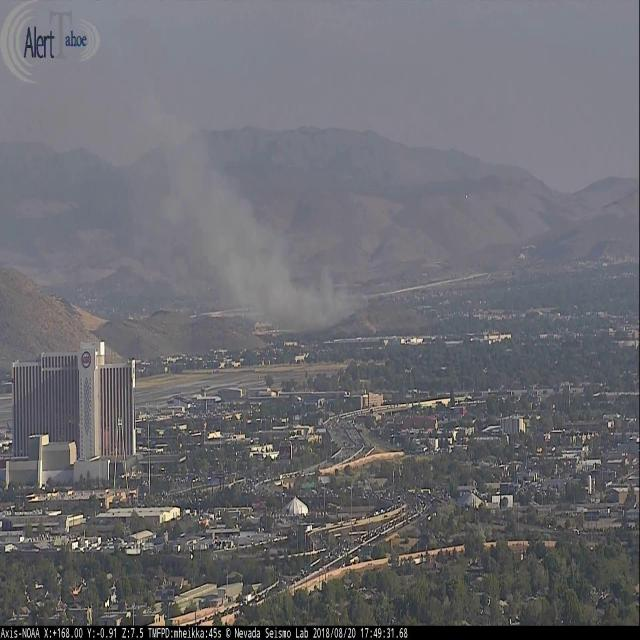smoke: (124, 56, 368, 351)
